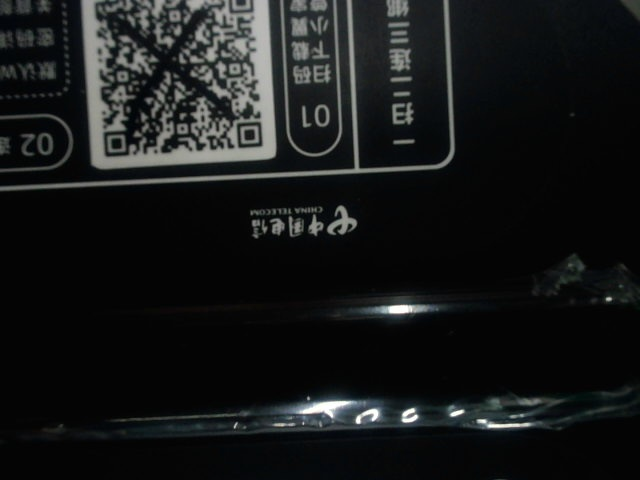AB_ChinaTelecom: (241, 202, 367, 243)
